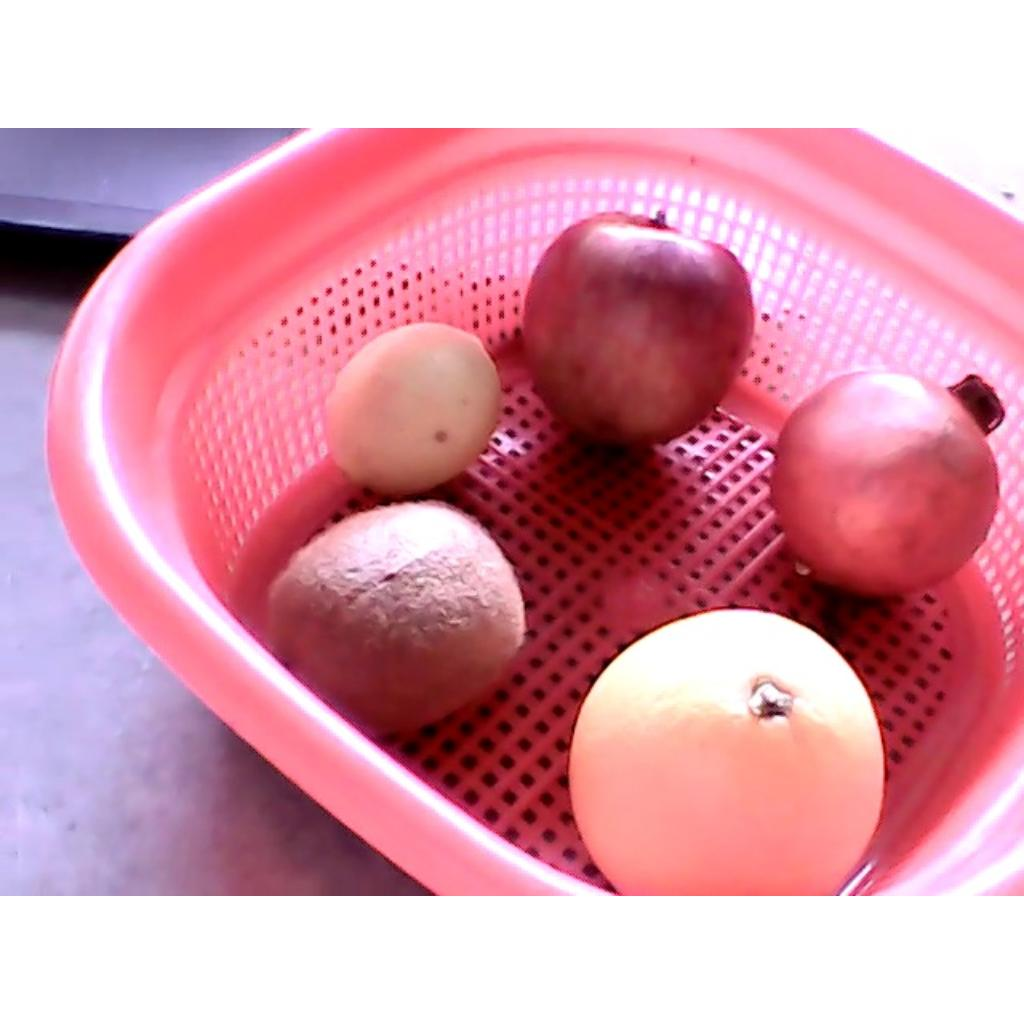apple: (520, 209, 756, 449)
kiwi: (266, 503, 526, 732)
lemon: (323, 323, 503, 495)
orange: (569, 607, 885, 894)
pomegranate: (771, 370, 1007, 598)
